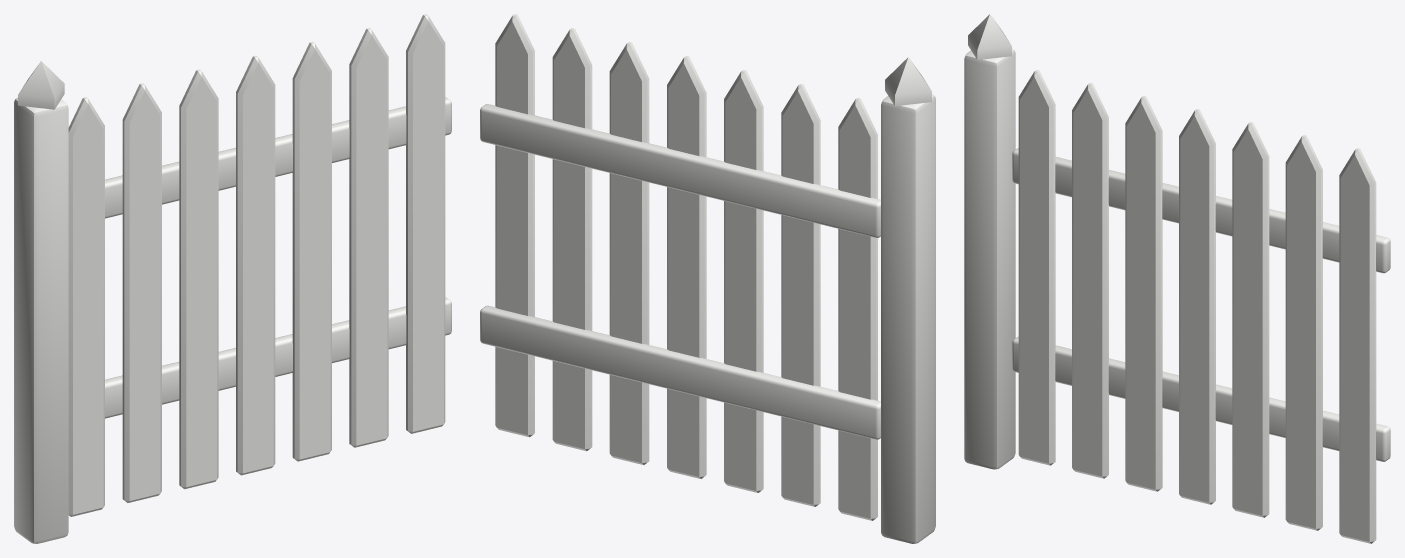
Rendered from cerca_madeira_1m.glb.
The picture shows the model from 3 angles, left to right: view 1: azimuth 30°, elevation 25°; view 2: azimuth 150°, elevation 25°; view 3: azimuth 330°, elevation 25°; orthographic projection. The views are drawn at different scales.
Visible parts, largest first — view 1: cerca_madeira_1m; view 2: cerca_madeira_1m; view 3: cerca_madeira_1m.
Boxes of the visible parts, bbox=[...] form: cerca_madeira_1m: bbox=[14, 14, 451, 543]; cerca_madeira_1m: bbox=[480, 14, 935, 543]; cerca_madeira_1m: bbox=[964, 14, 1390, 543].
Bounding box in the file's own units: 1.06 × 1.09 × 0.1116.
Materials: 1 (1 with a texture image).
